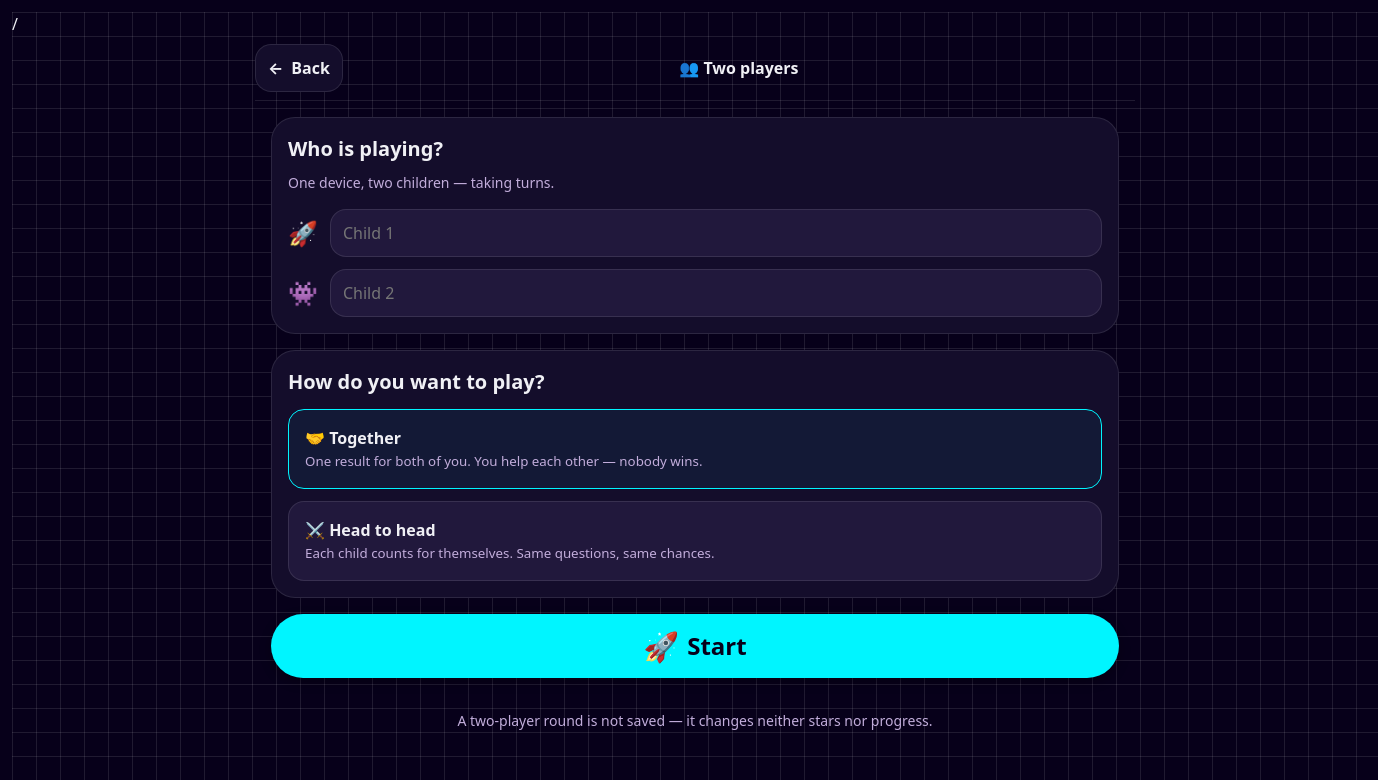
it: DuelSetupPage › falls back to plain labels when nobody types a name
Click the button "🚀 Start".
click(695, 646)  # box [271,614,1119,678]
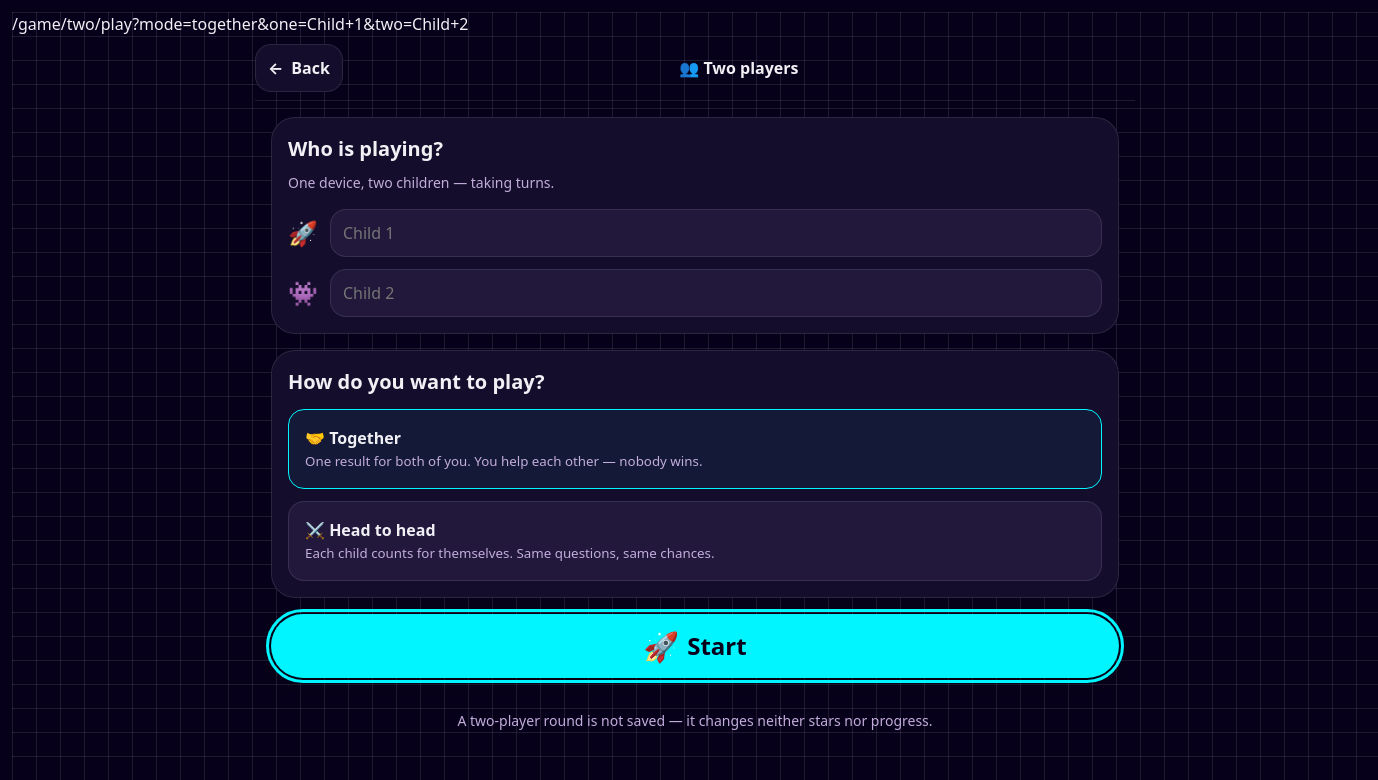
Expected: the text with test id "test-location" shows "one=Child+1", [132,13,468,35]
Expected: the text with test id "test-location" shows "two=Child+2", [132,13,468,35]
